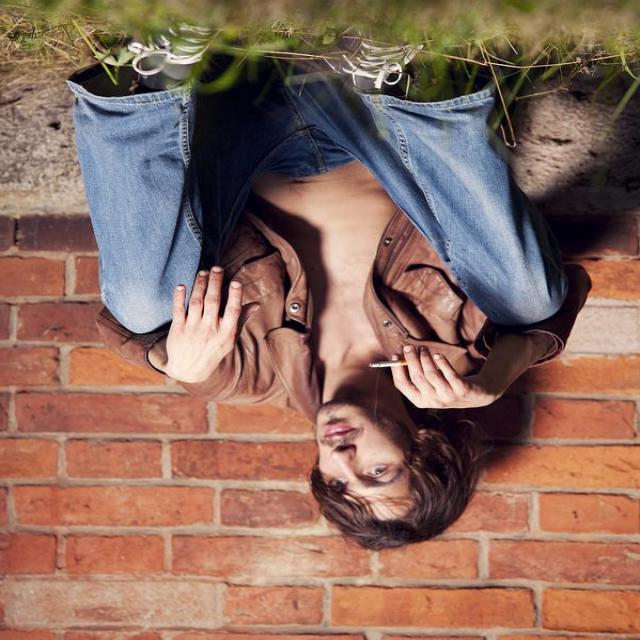cigarette: (368, 350, 432, 376)
